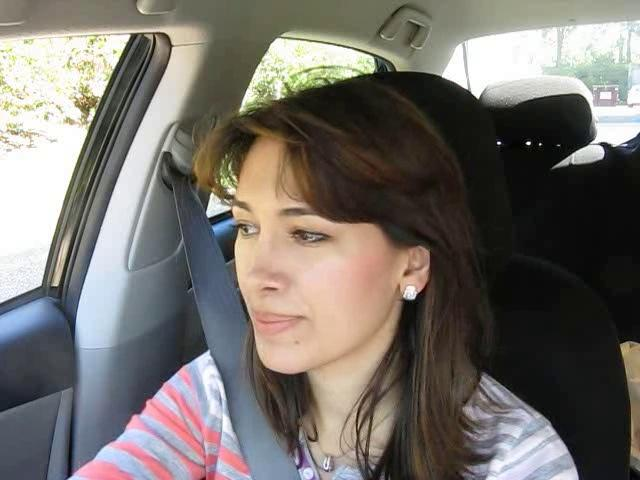close_eyeL: (230, 208, 265, 244)
close_eyeR: (277, 216, 349, 257)
no_yawn: (240, 303, 320, 344)
